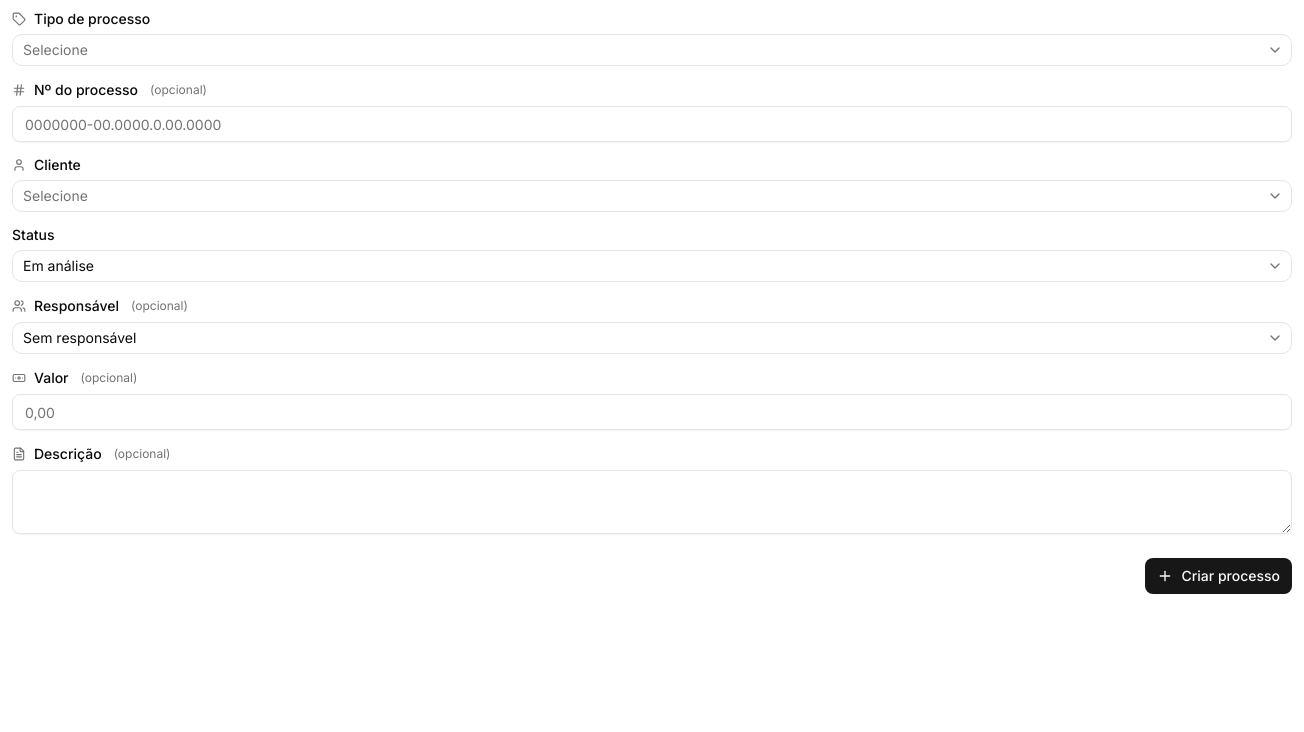
Test: CasoForm › mostra erro quando o cliente não foi selecionado
Check: the text "Em análise" is shown, box [23,257,94,274]
Click the dropdown named "Tipo de processo".
click(55, 50)  # box [12,34,1292,66]
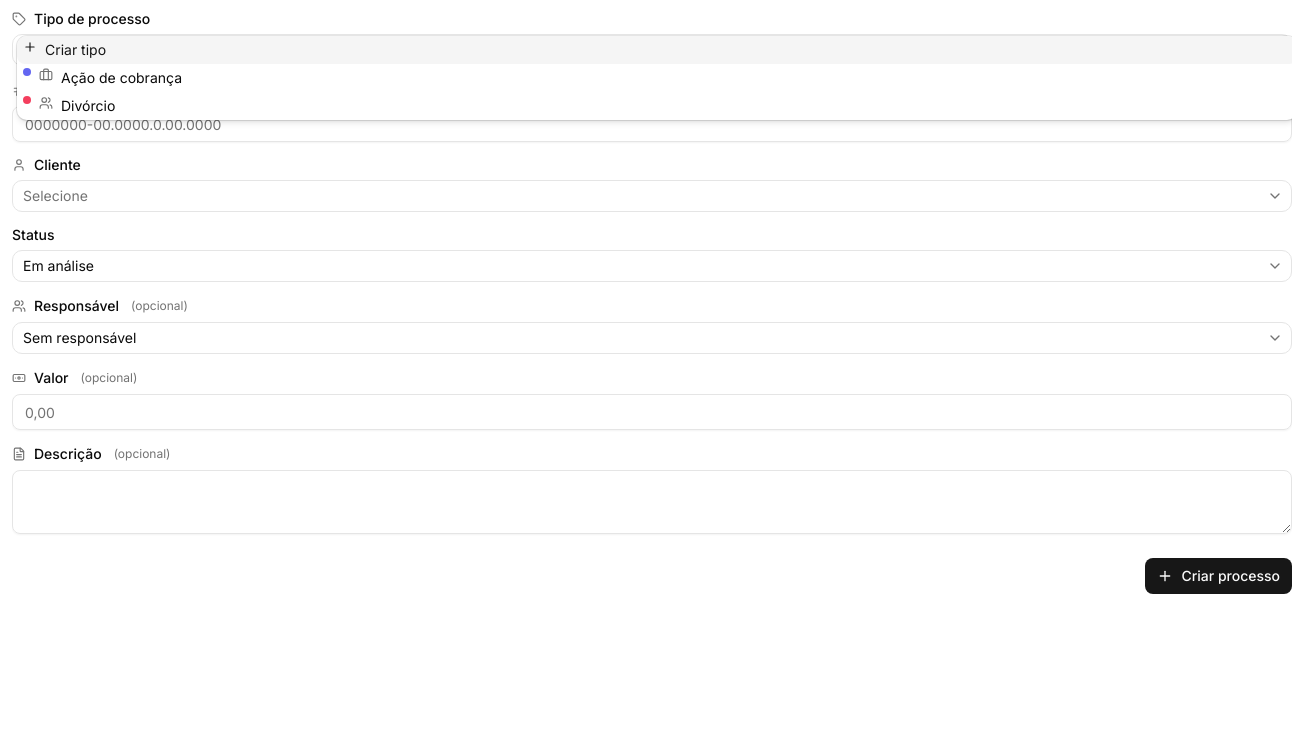
Click the option "Ação de cobrança".
click(102, 77)  # box [23,68,182,86]
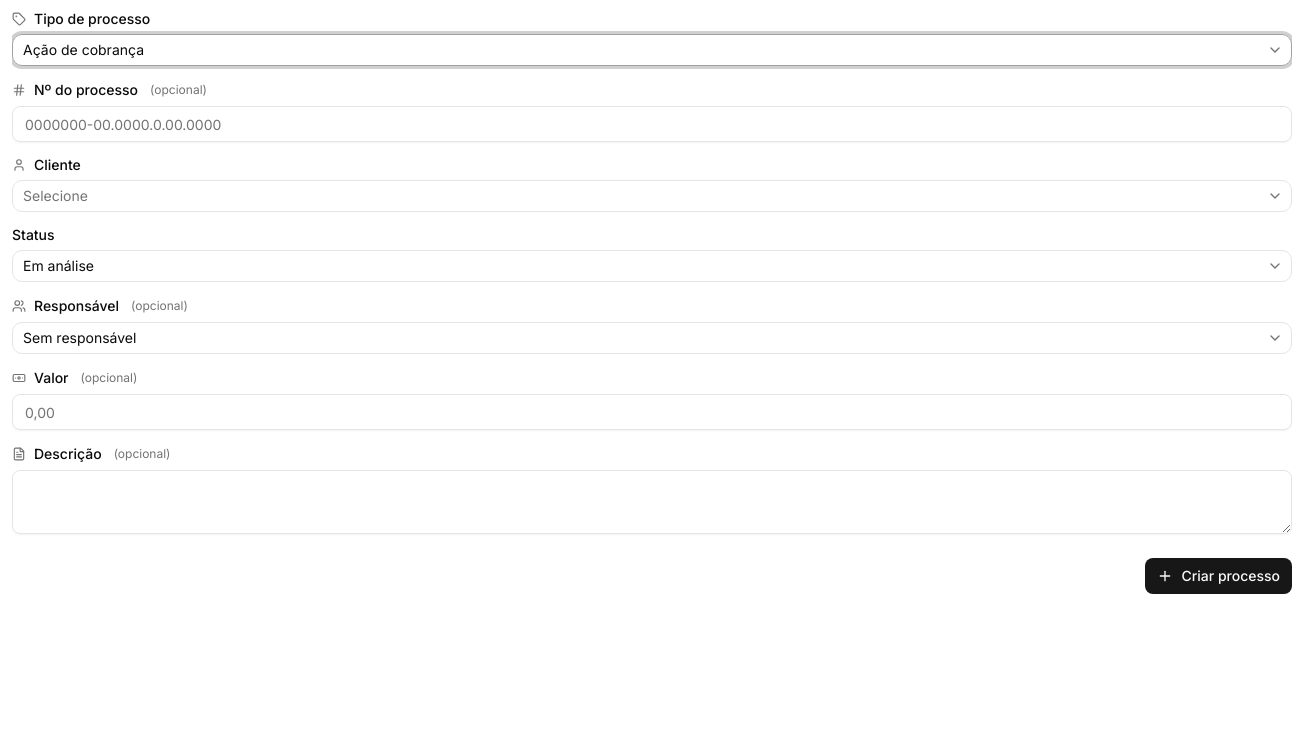
Click the button "Criar processo".
click(1219, 576)  # box [1146,558,1292,594]
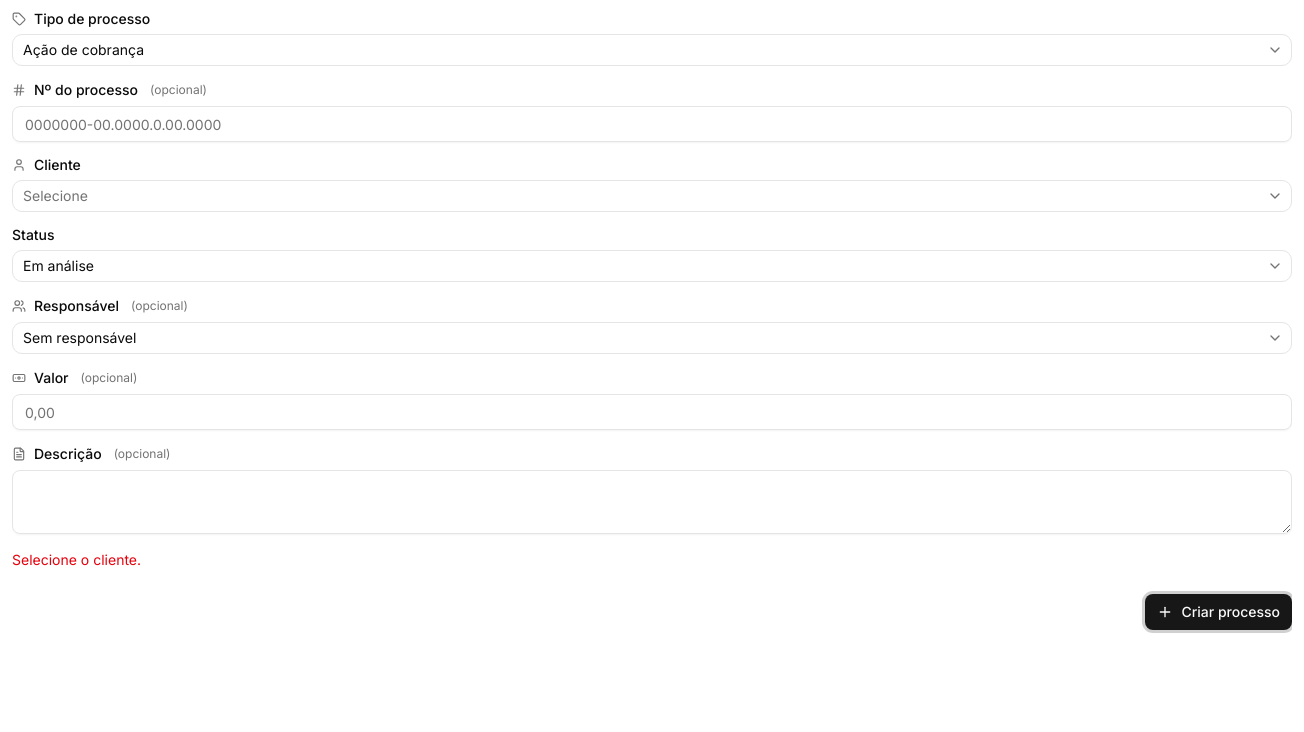
Check: the message reads "Selecione o cliente.", box [12,551,141,568]
